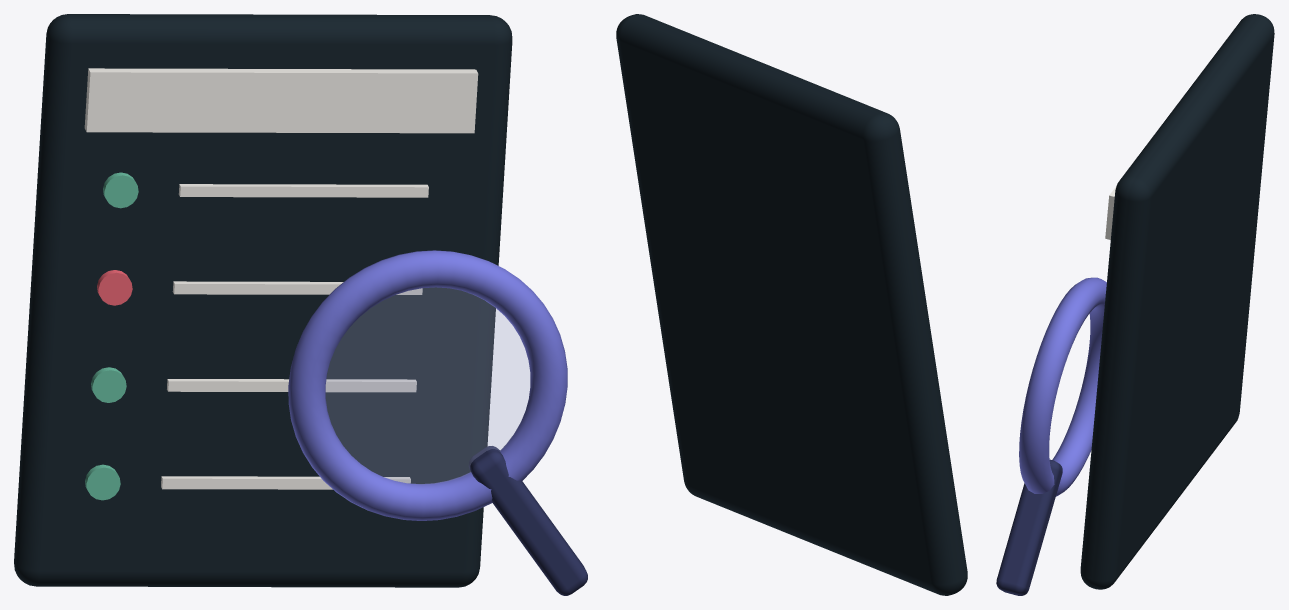
File: apple-triage-26d3009167.glb
3 views of the same model, side by side, from view 1: azimuth 30°, elevation 25°; view 2: azimuth 150°, elevation 25°; view 3: azimuth 270°, elevation 25° (orthographic). The views are drawn at different scales.
Size of the model in its own units: 3.75 by 4.62 by 2.54.
